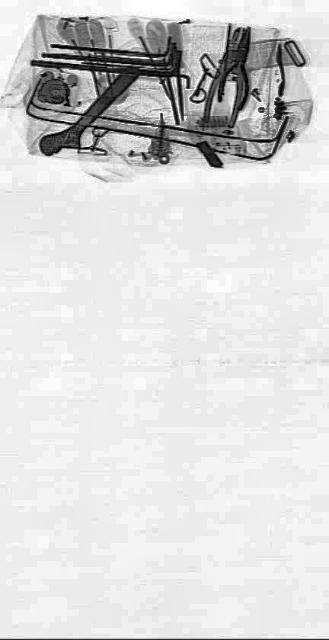Pliers: (202, 15, 254, 136), (215, 14, 261, 118)
Wrench: (37, 48, 143, 174)
